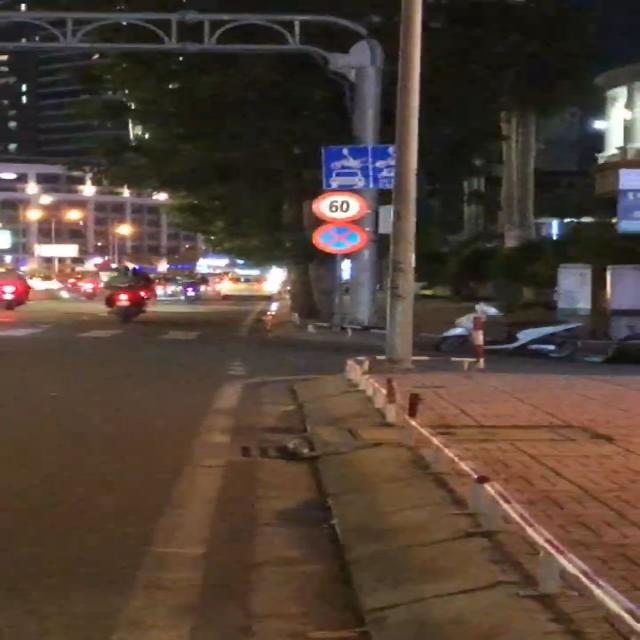Bien bao cam dung xe va do xe: (310, 221, 374, 255)
